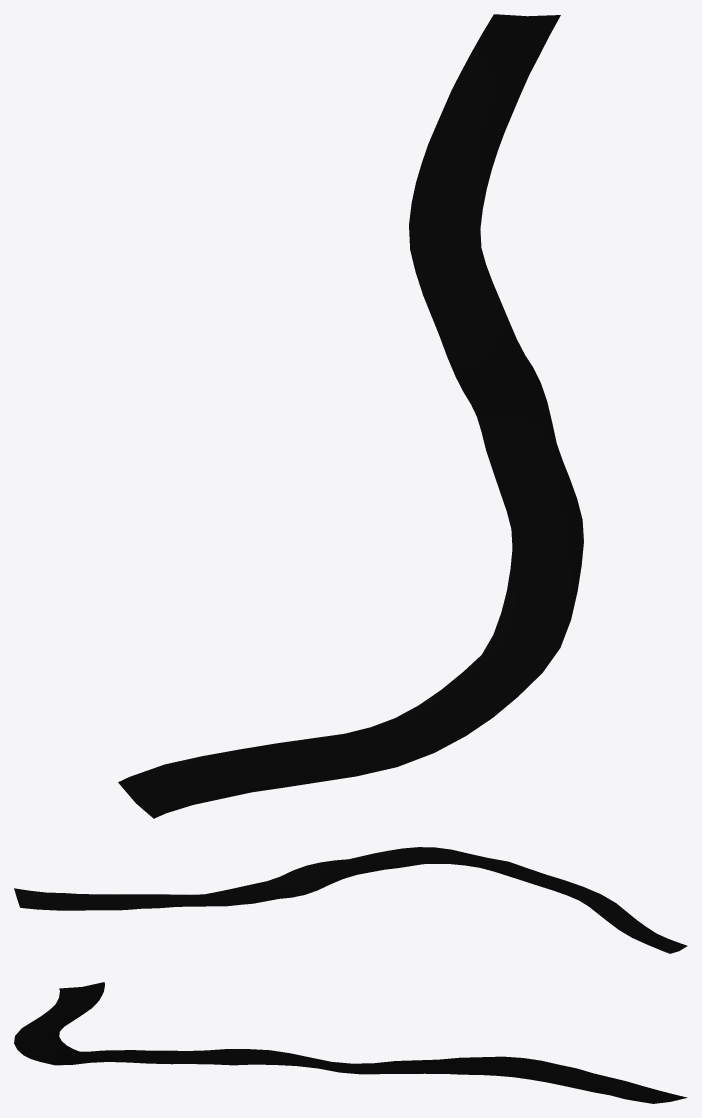
File: Tide_GenerateSurfaceDecal_52E9BE23_1_FlowDecal_SmallMesh_Mesh_x5_y6_86_1_ATLAS.fbx
The picture shows the model from 3 angles, top to bottom: view 1: azimuth 30°, elevation 25°; view 2: azimuth 150°, elevation 25°; view 3: azimuth 270°, elevation 25°; orthographic projection. The views are drawn at different scales.
Parts seen in each view (by area): view 1: Tide_GenerateSurfaceDecal_52E9BE23_1_FlowDecal_SmallMesh_Mes; view 2: Tide_GenerateSurfaceDecal_52E9BE23_1_FlowDecal_SmallMesh_Mes; view 3: Tide_GenerateSurfaceDecal_52E9BE23_1_FlowDecal_SmallMesh_Mes.
Part boxes in pixels (left/top/right/bottom): Tide_GenerateSurfaceDecal_52E9BE23_1_FlowDecal_SmallMesh_Mes: left=118, top=14, right=583, bottom=818; Tide_GenerateSurfaceDecal_52E9BE23_1_FlowDecal_SmallMesh_Mes: left=14, top=847, right=687, bottom=953; Tide_GenerateSurfaceDecal_52E9BE23_1_FlowDecal_SmallMesh_Mes: left=14, top=982, right=687, bottom=1103.
Bounding box in the file's own units: 2836 × 2986 × 758.
